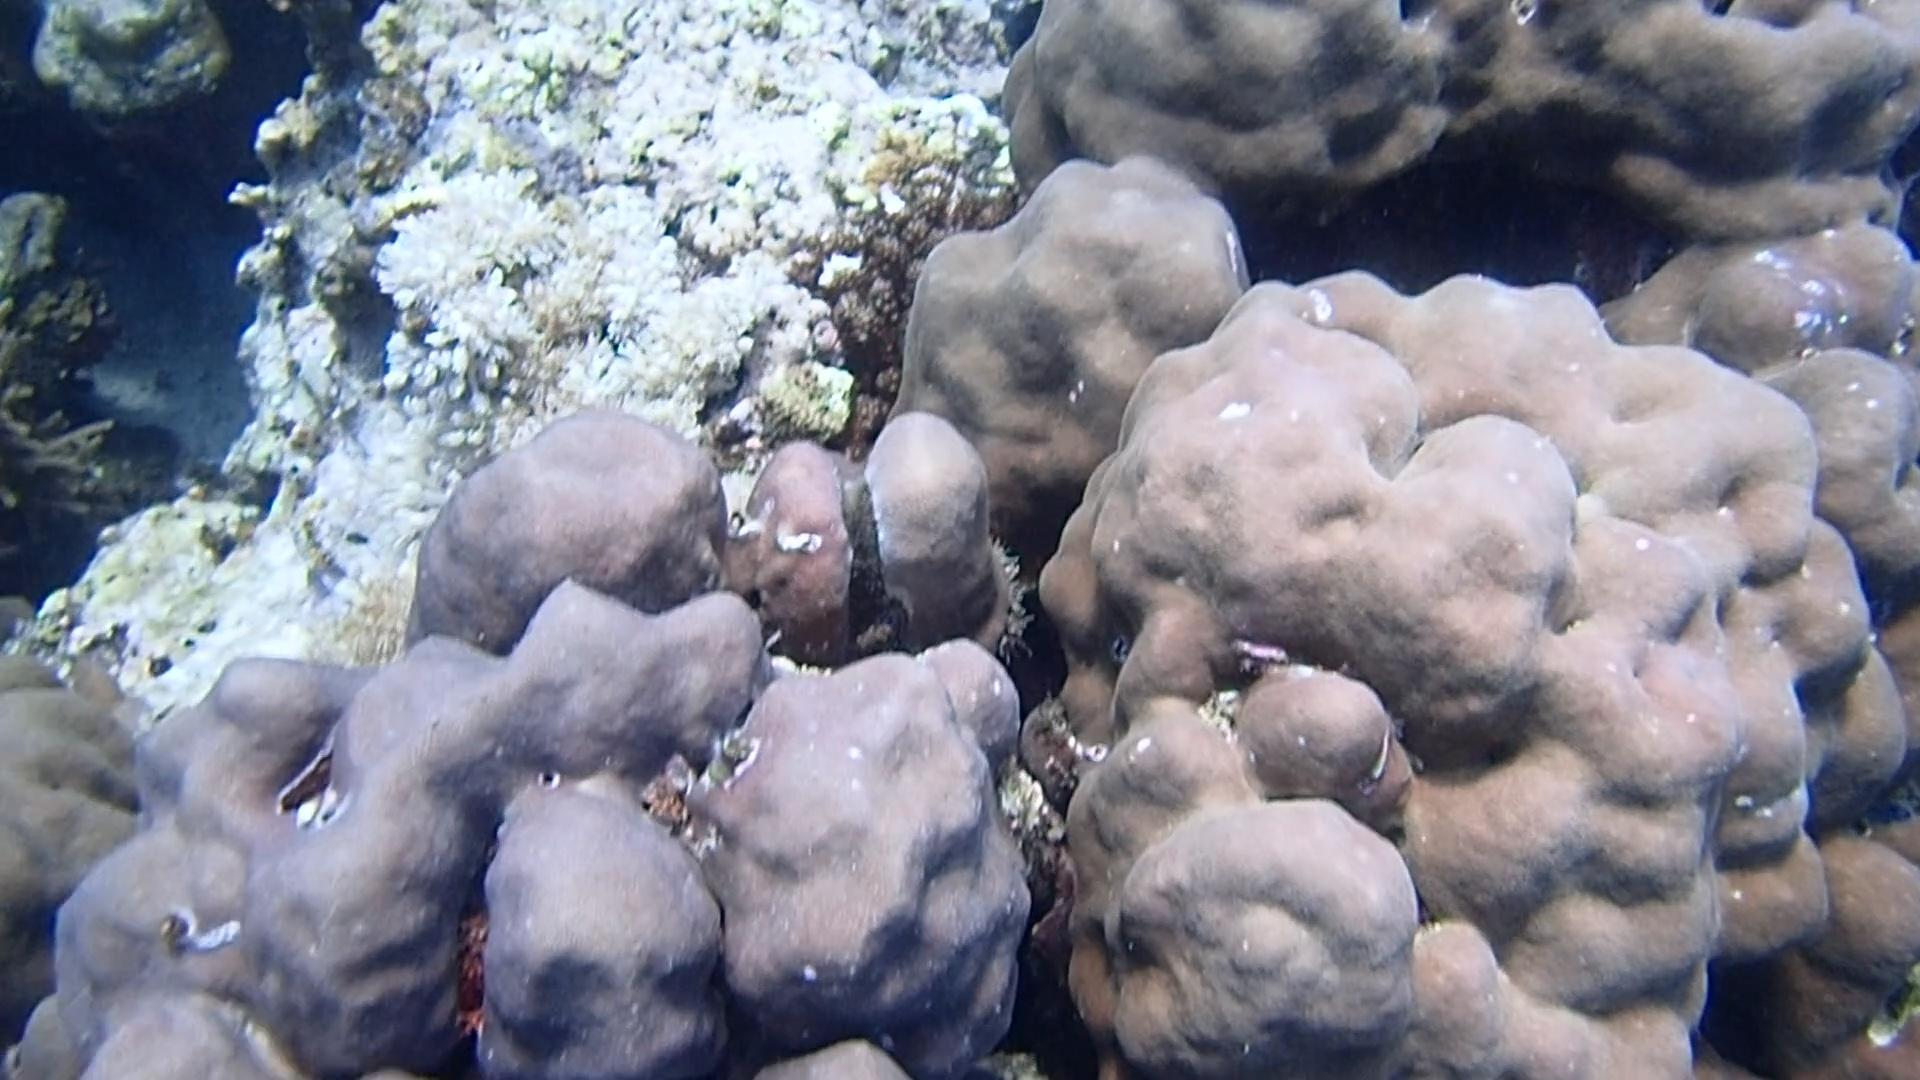Dark Fish: (998, 0, 1048, 63)
